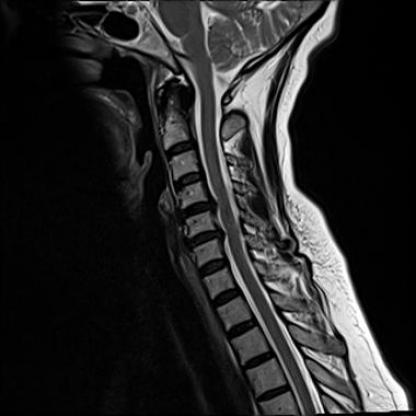Osteophytesrotation: (177, 200, 215, 220), (186, 228, 221, 248)
